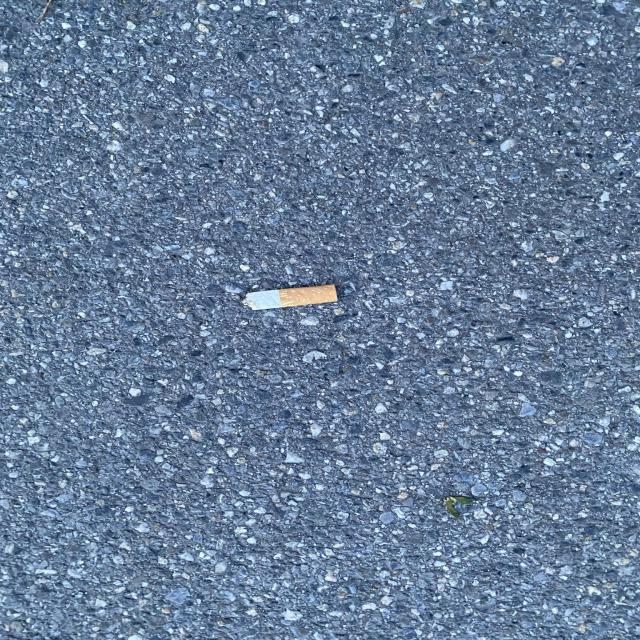other waste: (240, 284, 338, 310)
